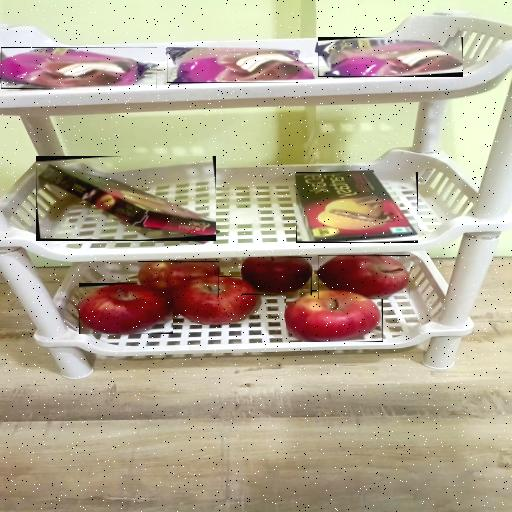Apple: (286, 290, 383, 342), (79, 283, 173, 334), (170, 276, 258, 325), (318, 255, 410, 299), (138, 261, 219, 297), (242, 257, 312, 295)
Choco Fills: (36, 156, 216, 241), (296, 172, 418, 243)
Choco Pie: (1, 48, 157, 90), (318, 37, 463, 77), (166, 47, 312, 83)
